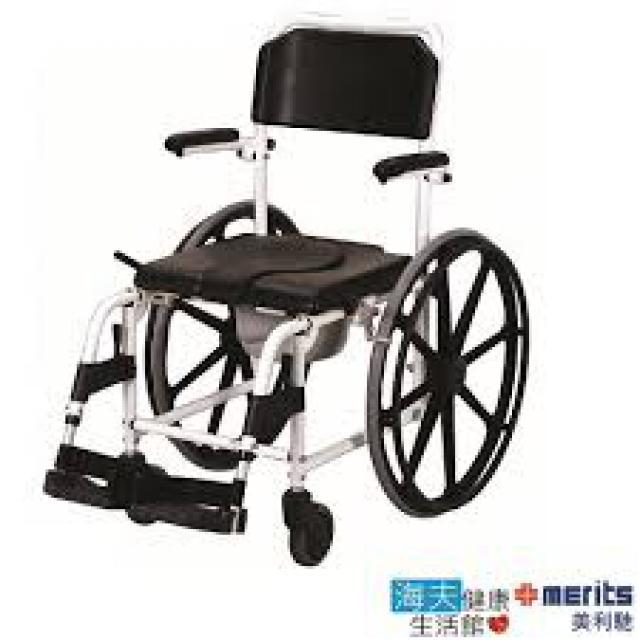wheelchair: (26, 12, 530, 560)
